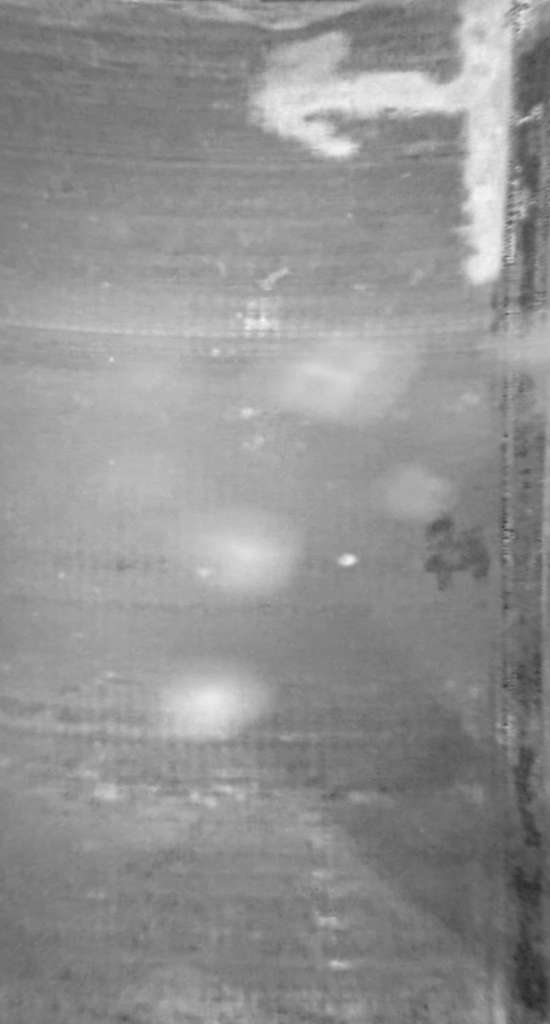splice: (488, 1, 550, 1024)
